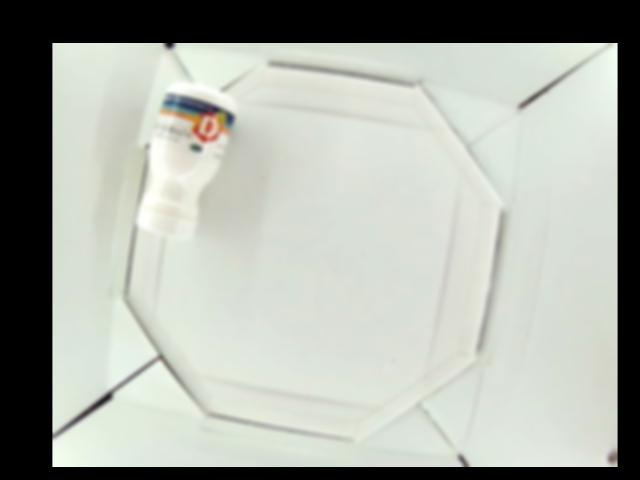Bottle: (134, 82, 236, 233)
